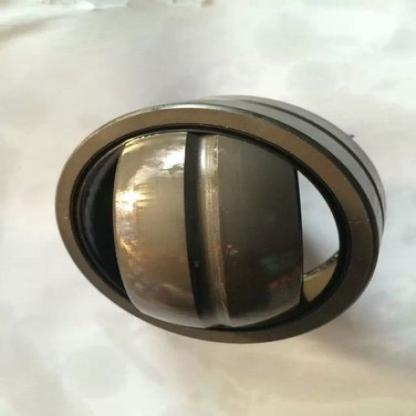FOD: (44, 86, 392, 347)
